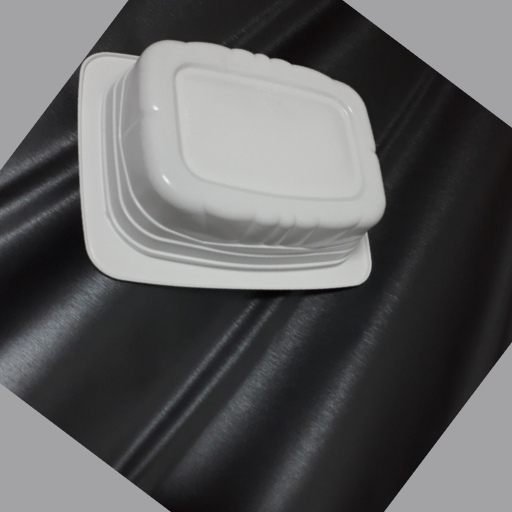Plastic_4: (74, 37, 385, 297)
